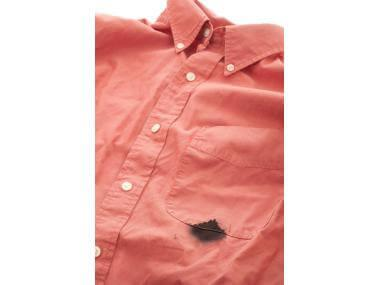gun: (189, 213, 229, 244)
